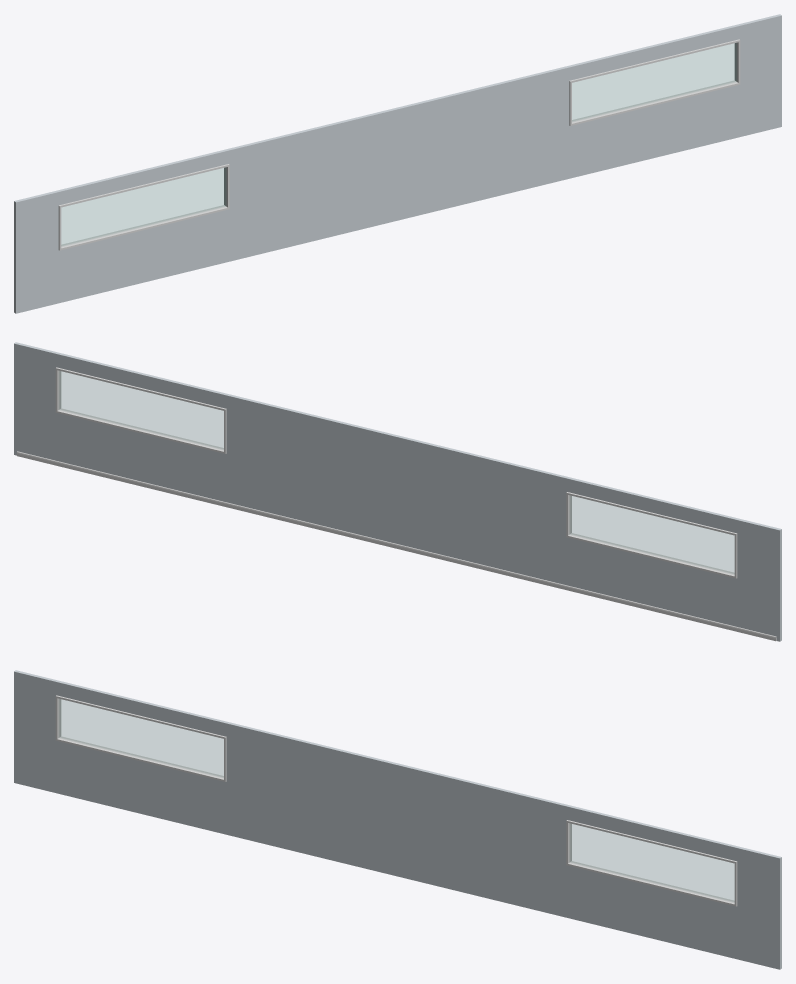
The model's file is Office_WallS.fbx.
The picture shows the model from 3 angles, top to bottom: view 1: azimuth 30°, elevation 25°; view 2: azimuth 150°, elevation 25°; view 3: azimuth 330°, elevation 25°; orthographic projection.
Parts seen in each view (by area): view 1: WallS, Window1, Window2; view 2: WallS, Window1, Window2, TrimS1; view 3: WallS, Window1, Window2.
Boxes of the visible parts, box(x1,y1,x2,y2) form: WallS: box(14, 14, 781, 313); Window1: box(58, 164, 229, 250); Window2: box(569, 39, 740, 125); WallS: box(14, 342, 781, 641); Window1: box(566, 492, 737, 578); Window2: box(55, 367, 226, 453); TrimS1: box(17, 451, 776, 641); WallS: box(14, 670, 781, 969); Window1: box(55, 695, 226, 781); Window2: box(566, 820, 737, 906).
Size of the model in its own units: 1800 by 250 by 16.
